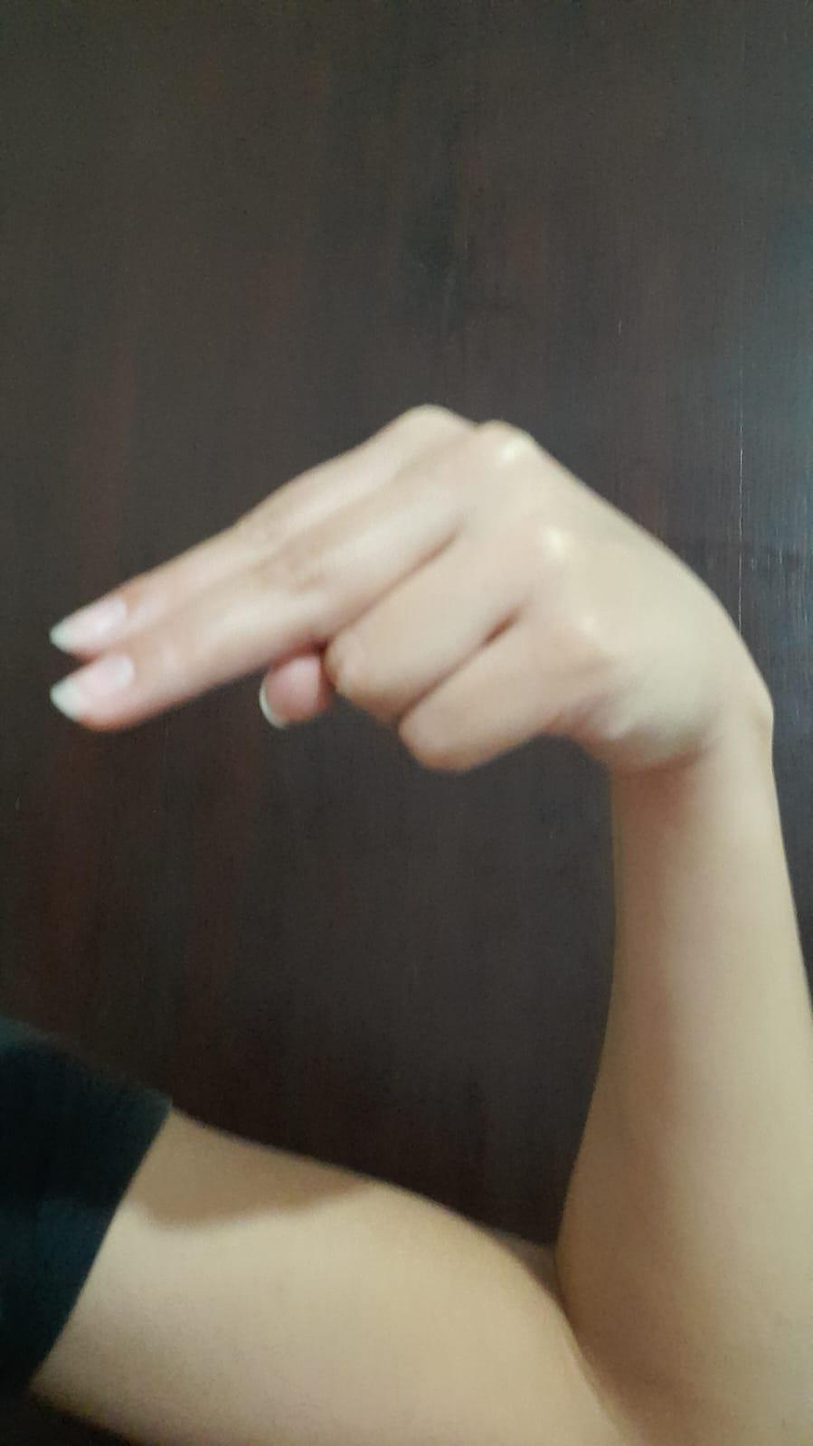N: (23, 398, 778, 791)
